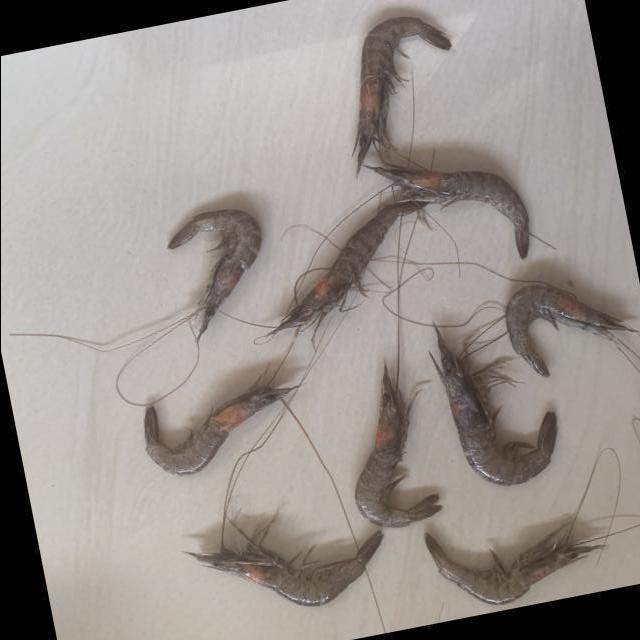shrimp: (266, 200, 428, 335), (430, 327, 557, 486), (369, 163, 529, 259), (354, 16, 450, 175), (184, 530, 382, 607), (354, 365, 441, 528), (424, 529, 603, 606), (143, 387, 296, 476), (167, 209, 260, 343), (506, 285, 638, 377)
